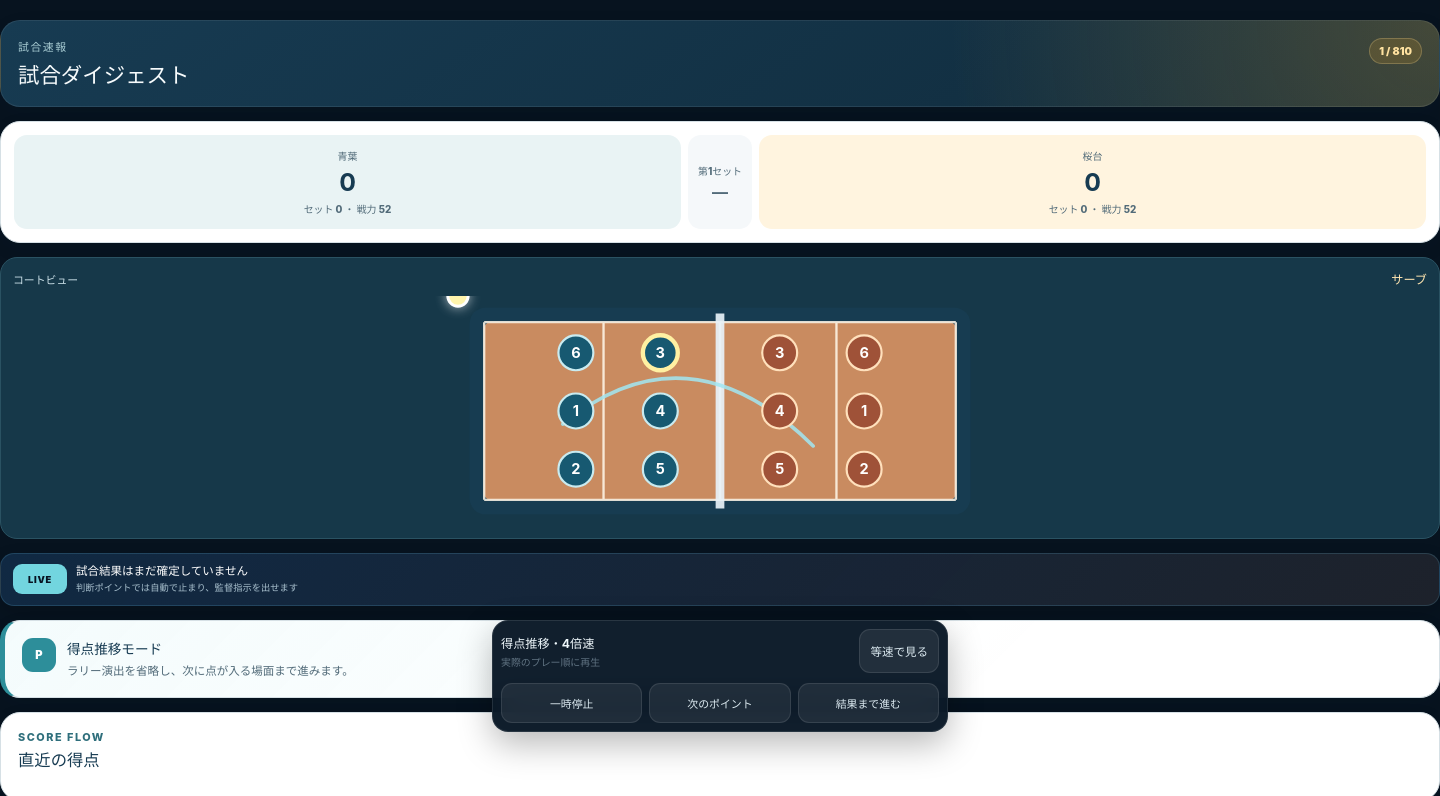
Test case: match flow › reveals the immutable event log and finishes on the Phase53 review and exact box score
Check: the heading "試合ダイジェスト" is shown, box [18,58,190,89]
Check: the text "セット 0 ・ 戦力 52" is shown 2 times, box [304,201,391,216]; [1049,201,1136,216]
Step 1. Click the button "次のポイント" → point(720, 703), box [649,683,791,723]
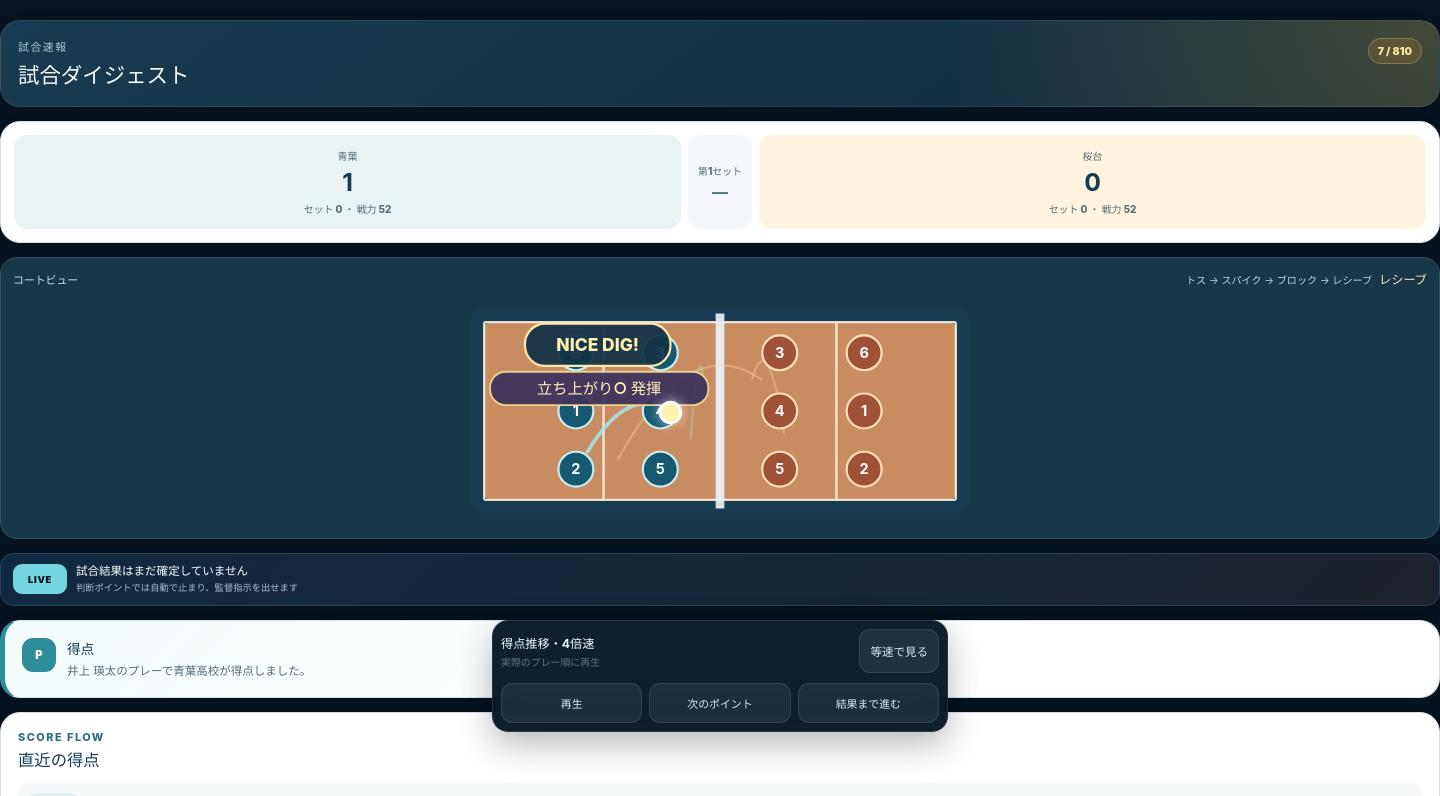
Step 2. Click the button "結果まで進む" → point(868, 703), box [798,683,939,723]
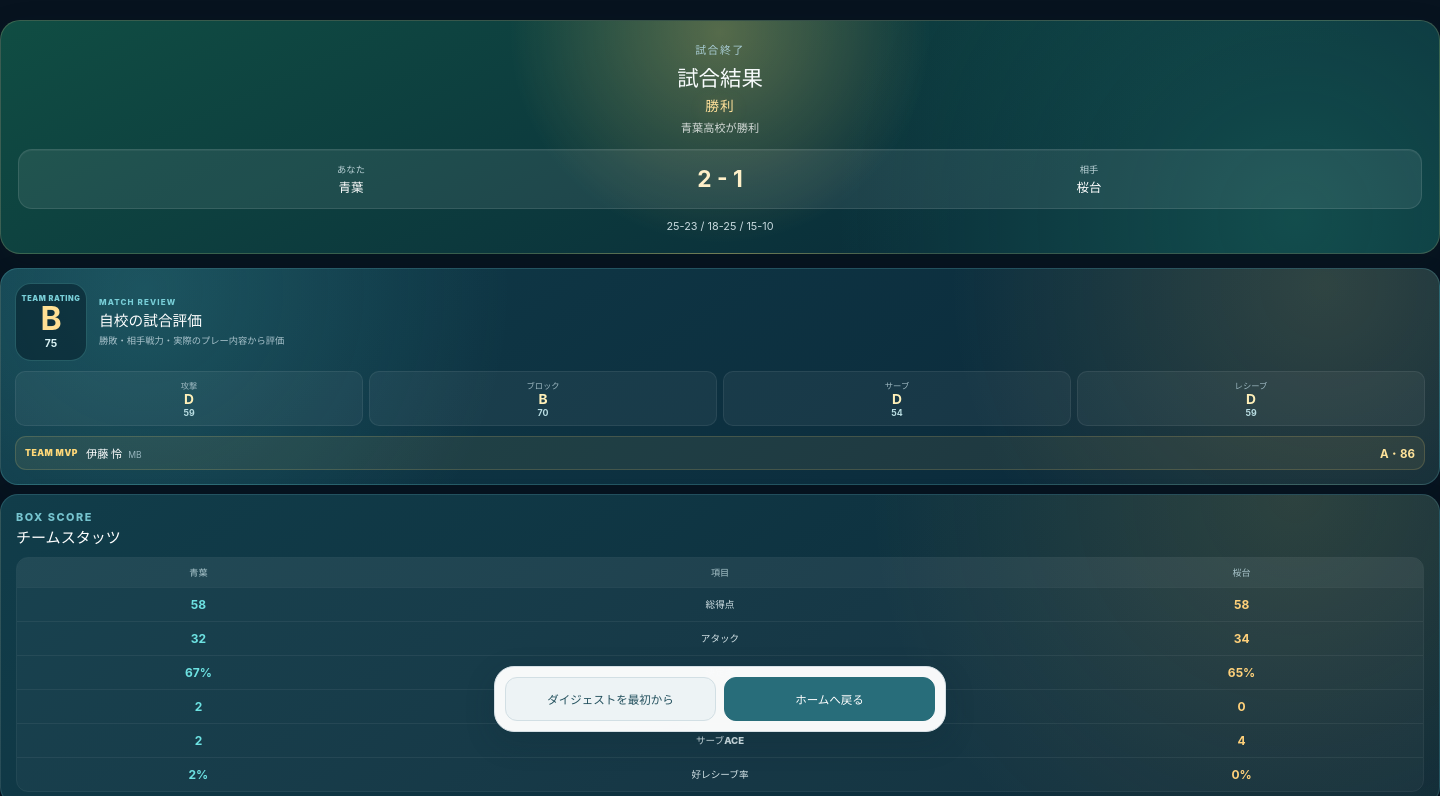
Check: the heading "自校の試合評価" is shown, box [99,312,202,330]
Check: the text "TEAM RATING" is shown, box [22,294,80,303]
Check: the text "TEAM MVP" is shown, box [25,448,78,458]
